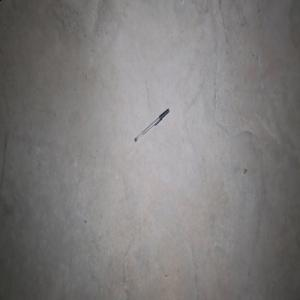Pen: (134, 108, 169, 142)
